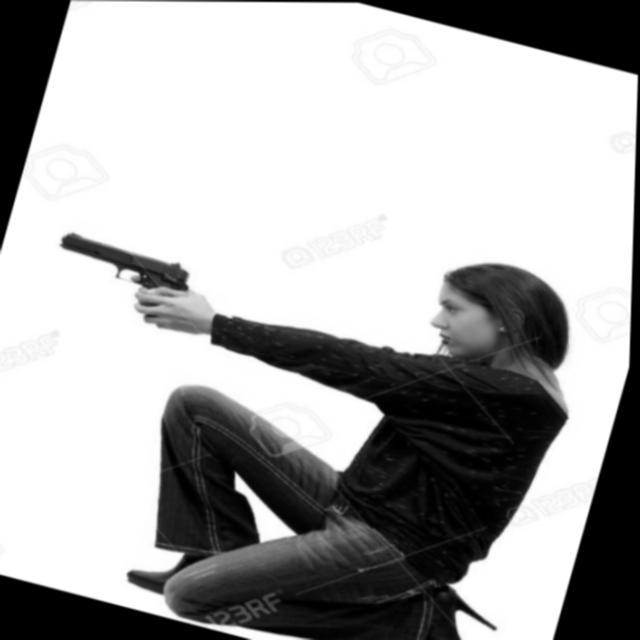weapon: (50, 171, 611, 640), (46, 228, 198, 324)
